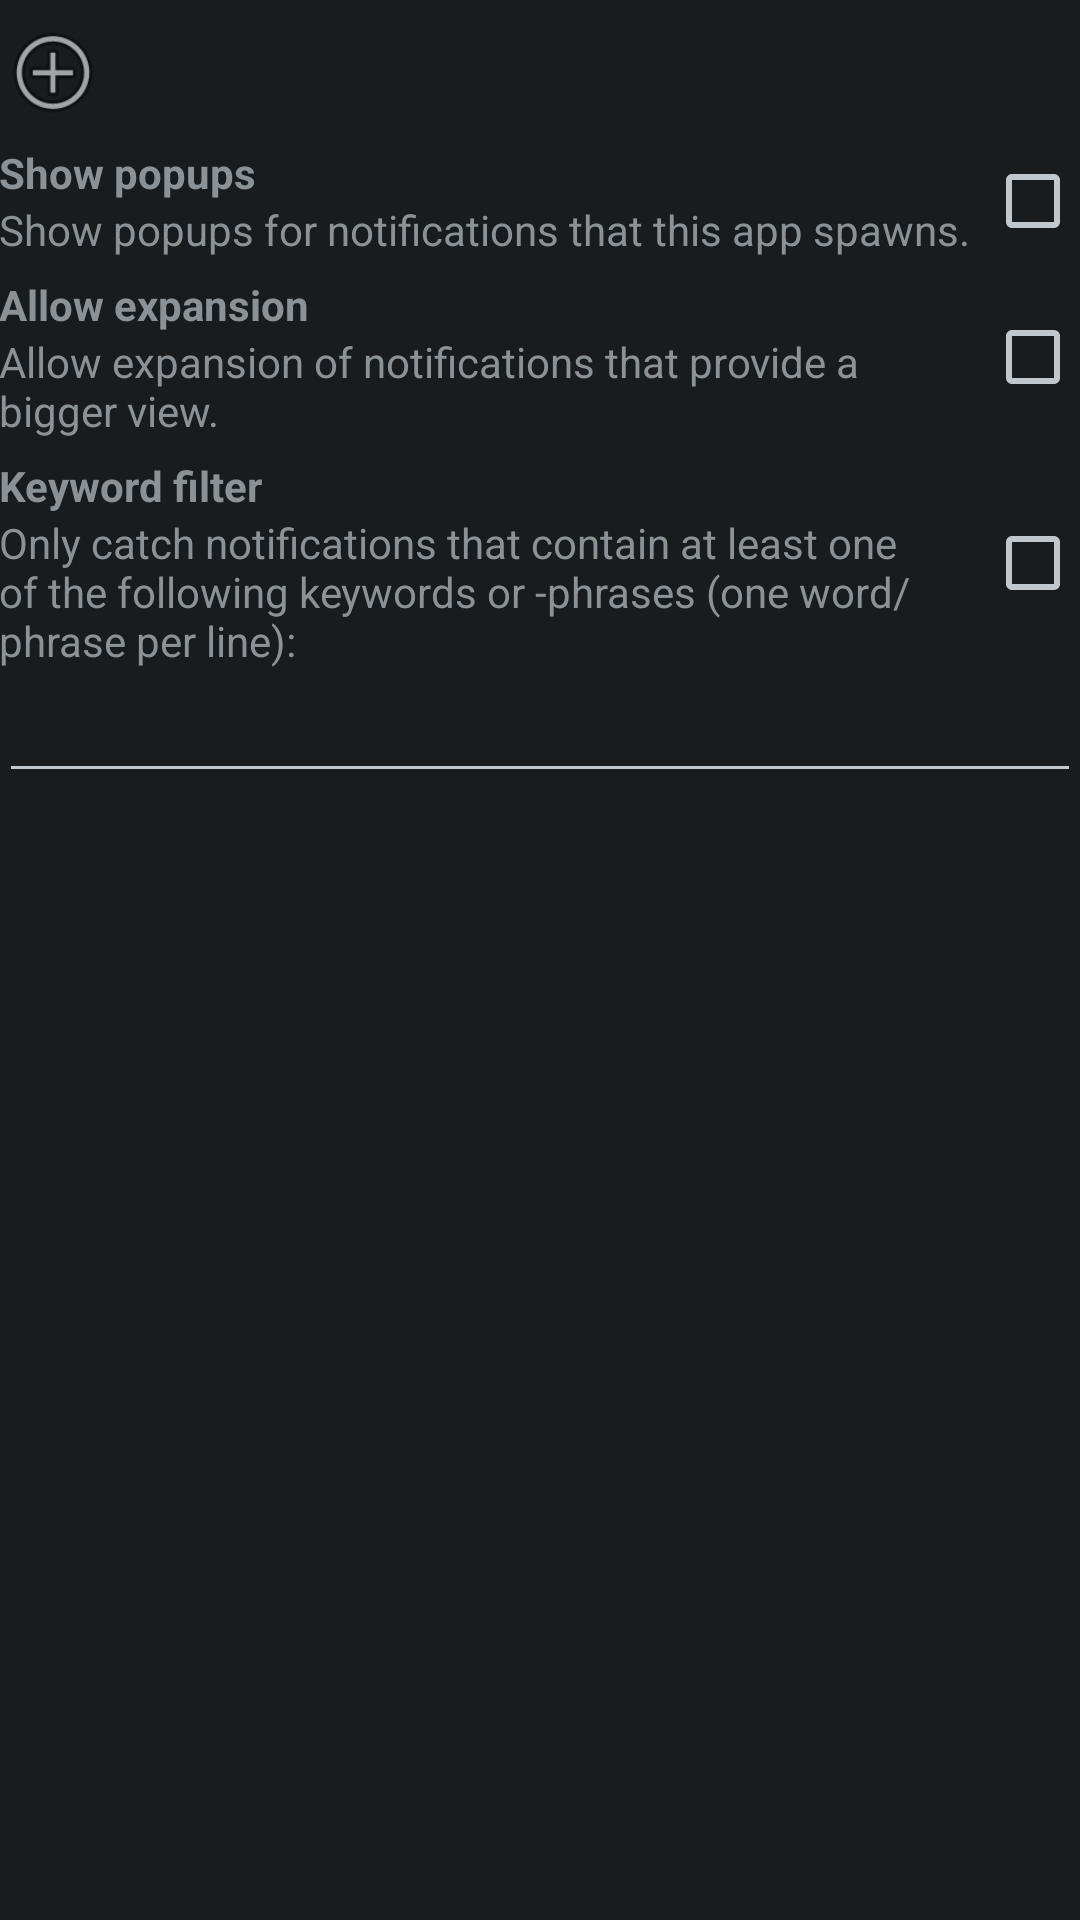

Named icons in this screenshot (1080×1920) and their bounding boxes, (x1, y1, x2, y2):
add: (16, 36, 90, 109)
